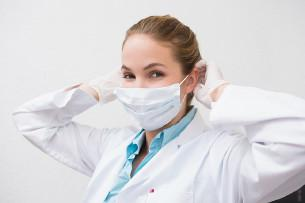OK: (115, 54, 193, 132)
